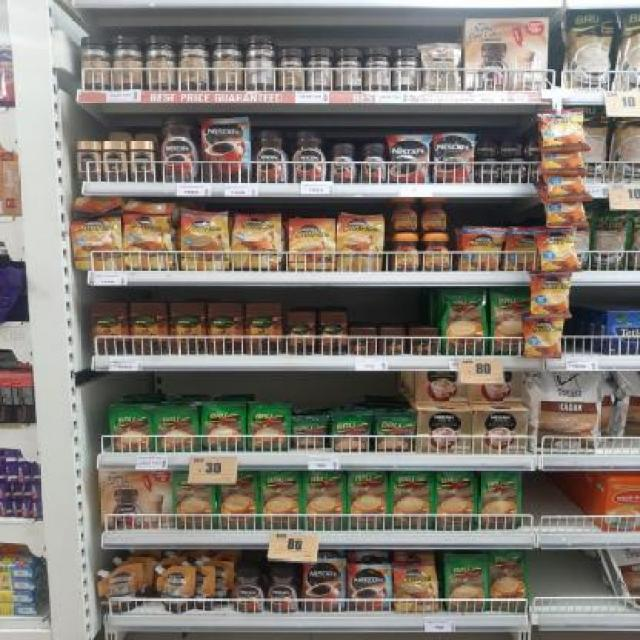Coffee: (156, 116, 201, 184), (202, 120, 249, 182), (180, 213, 228, 270), (123, 215, 172, 268), (232, 213, 278, 269), (73, 218, 121, 270), (337, 217, 383, 271), (290, 219, 335, 270), (393, 562, 438, 612), (304, 559, 344, 610), (291, 131, 329, 183), (252, 131, 290, 183), (434, 134, 474, 183), (349, 564, 391, 610), (389, 135, 428, 182), (460, 228, 503, 270), (530, 272, 568, 314), (231, 570, 267, 612), (540, 229, 577, 269), (267, 568, 299, 612), (505, 228, 537, 270), (525, 318, 560, 356), (126, 140, 156, 182), (330, 142, 358, 184), (390, 233, 420, 272), (101, 140, 128, 182), (422, 233, 452, 270), (360, 144, 388, 182), (76, 140, 102, 180), (390, 198, 419, 231), (546, 117, 580, 145), (422, 199, 450, 232), (501, 158, 527, 180), (476, 160, 499, 182), (500, 136, 523, 156), (477, 137, 498, 157)
